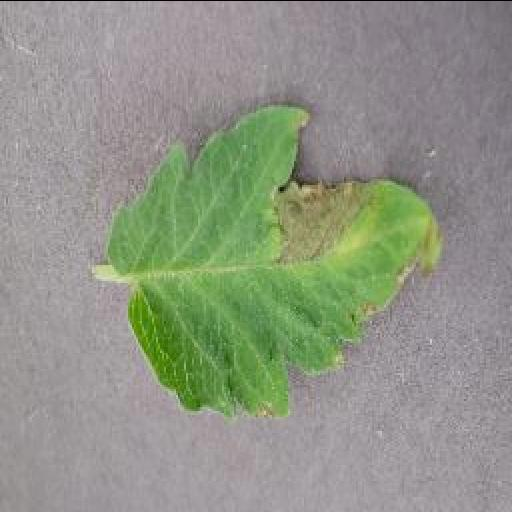disease_tomato: (110, 98, 446, 416)
